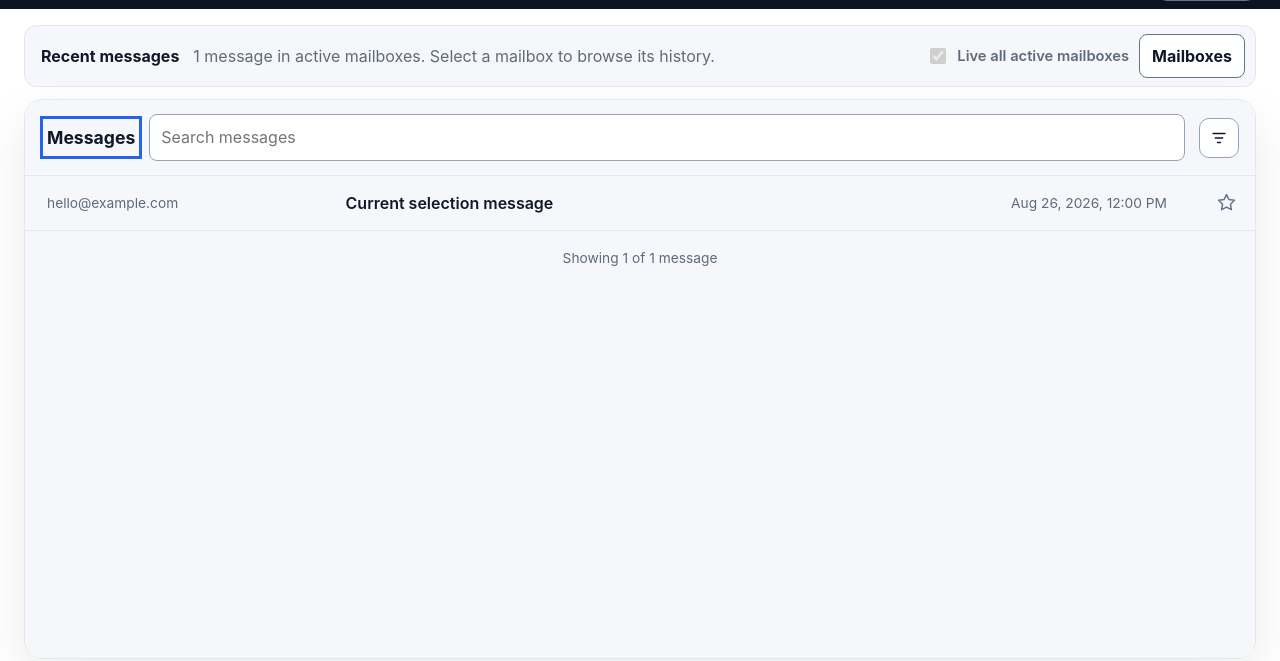
Scenario: mailbox workspace › ignores a stale page after the selected mailbox set changes
This screenshot has width=1280, height=661.
Expected: the heading "Messages" is shown, top-left (47, 123), bottom-right (135, 152)
Click the heading named "Manage saved mailboxes" at coordinates (1192, 56), box top-left (1139, 34), bottom-right (1245, 78)
(page scrolled)
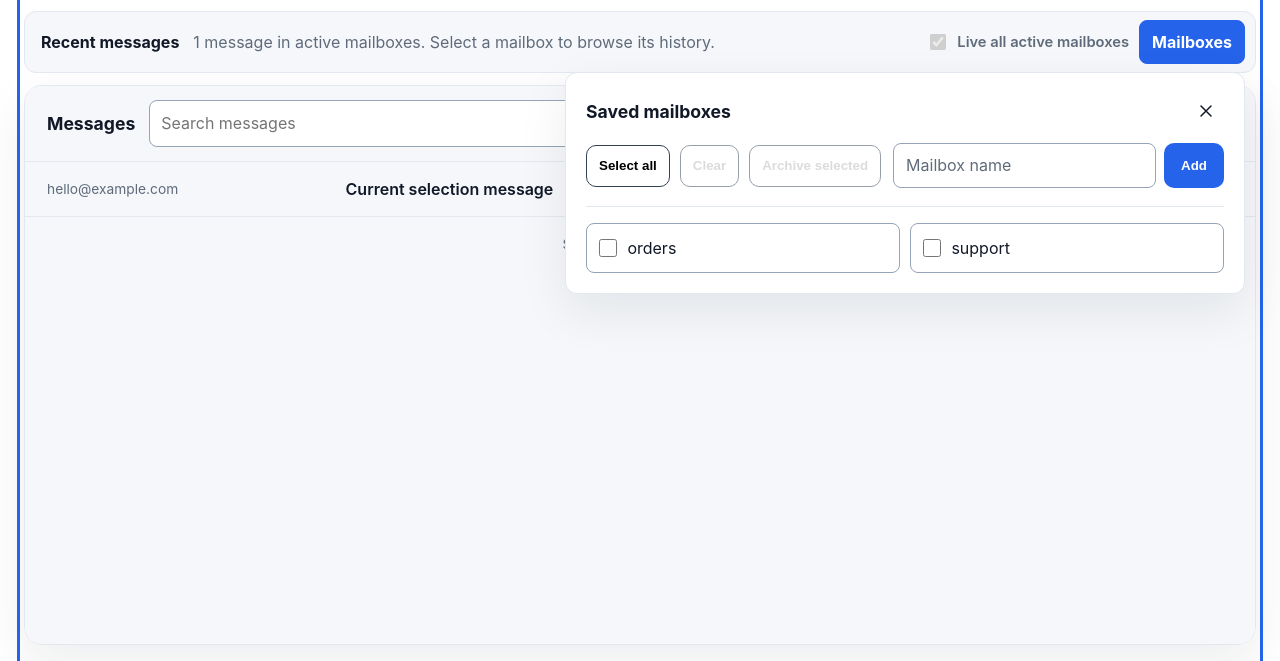
Click the checkbox labelled "orders" at coordinates (608, 248), box top-left (599, 239), bottom-right (617, 257)
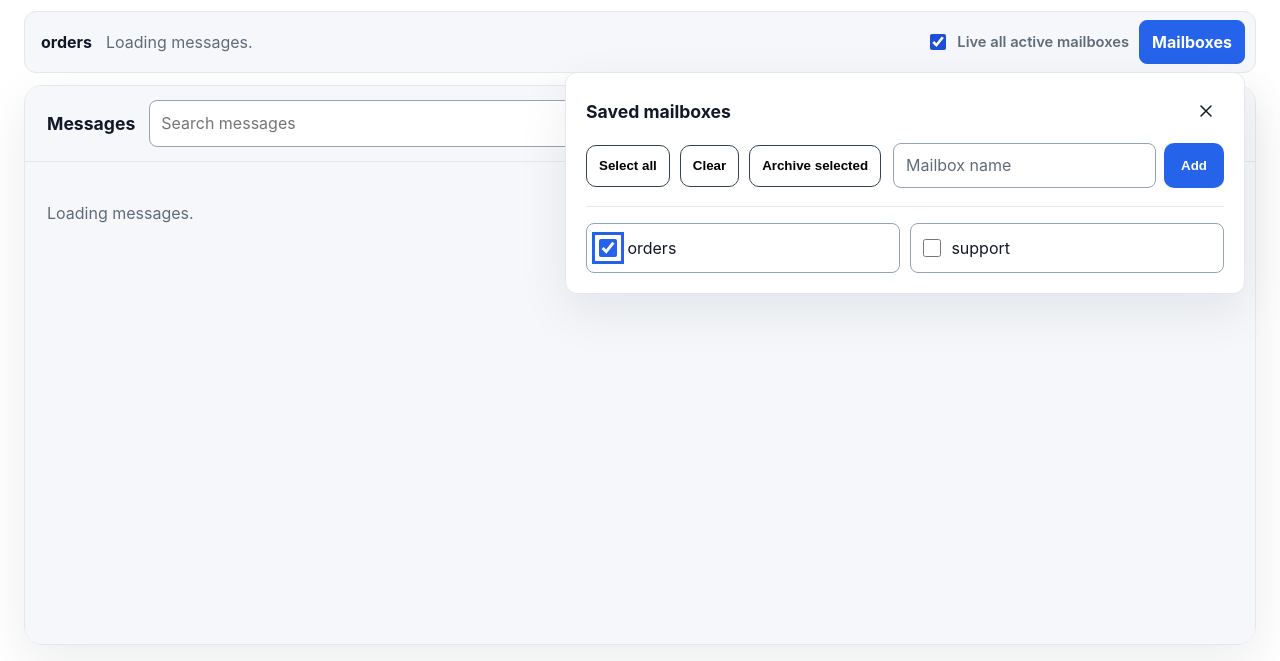
Click the checkbox labelled "support" at coordinates (932, 248), box top-left (923, 239), bottom-right (941, 257)
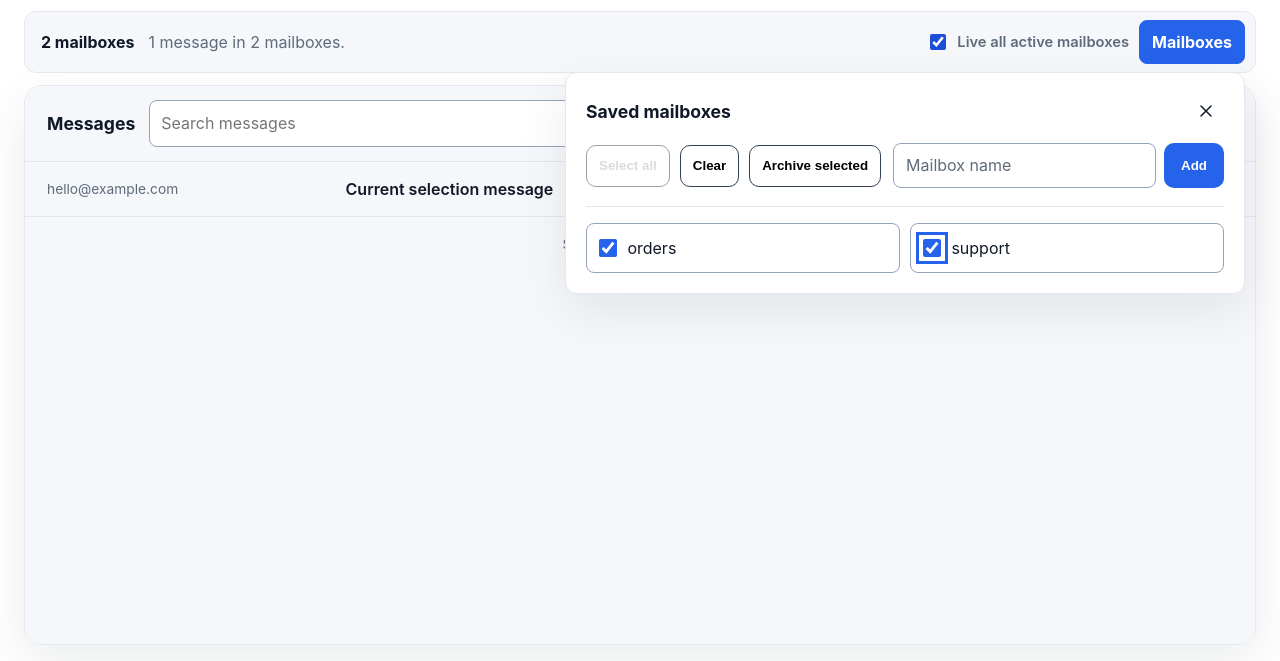
Now the button with aria-label "Read: Current selection message" is shown, box top-left (25, 162), bottom-right (1255, 216)
